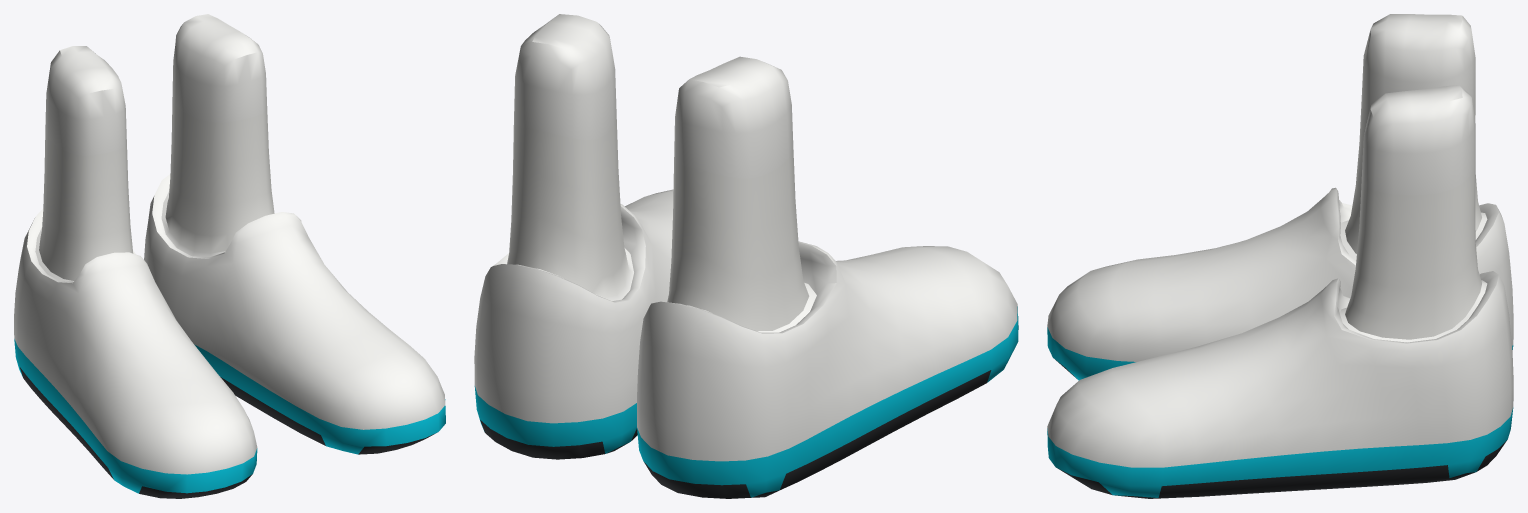
File: Display_Shoes_Pair.fbx
The picture shows the model from 3 angles, left to right: view 1: azimuth 30°, elevation 25°; view 2: azimuth 150°, elevation 25°; view 3: azimuth 270°, elevation 25°; orthographic projection. The views are drawn at different scales.
Parts seen in each view (by area): view 1: Display_Shoes_Pair; view 2: Display_Shoes_Pair; view 3: Display_Shoes_Pair.
Part boxes in pixels (left/top/right/bottom): Display_Shoes_Pair: left=14, top=14, right=445, bottom=498; Display_Shoes_Pair: left=474, top=14, right=1018, bottom=498; Display_Shoes_Pair: left=1047, top=14, right=1513, bottom=498.
Bounding box in the file's own units: 0.2463 × 0.2405 × 0.276.
